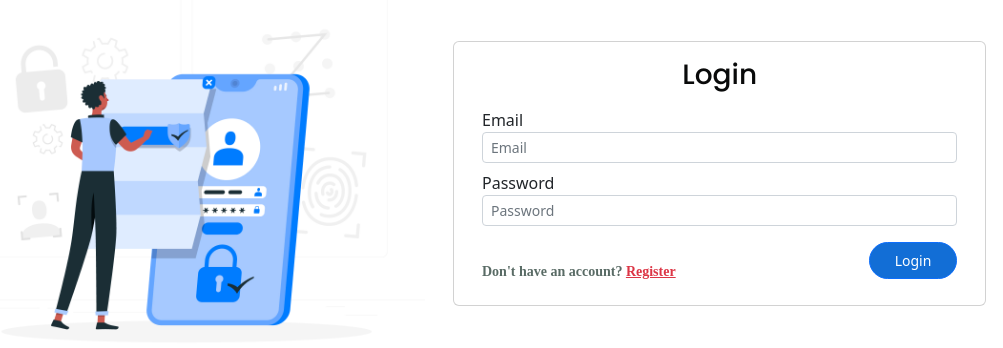
shows an error when the server cannot be reached
In the field with placeholder "Email": (720, 148) [482, 132, 957, 163], type "anna@example.com"
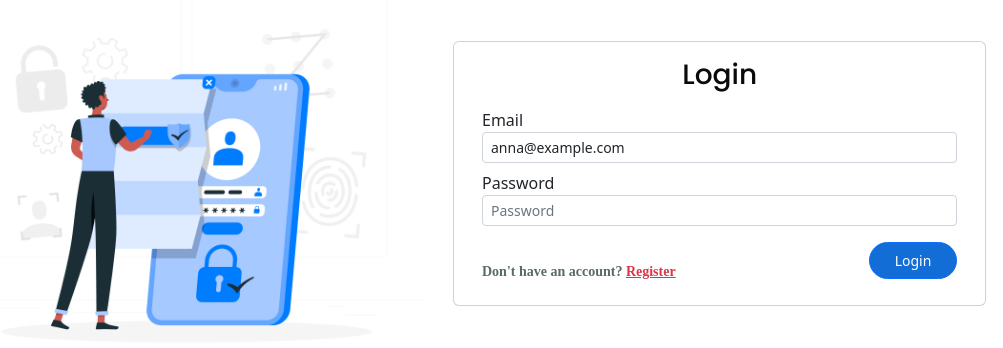
In the password field with placeholder "Password": (720, 210) [482, 195, 957, 226], type "Secret123!"
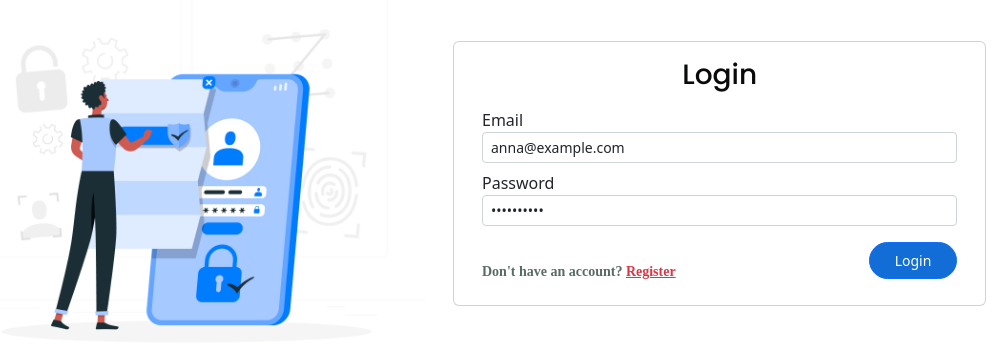
Click the button "Login": (913, 260) [869, 242, 957, 279]
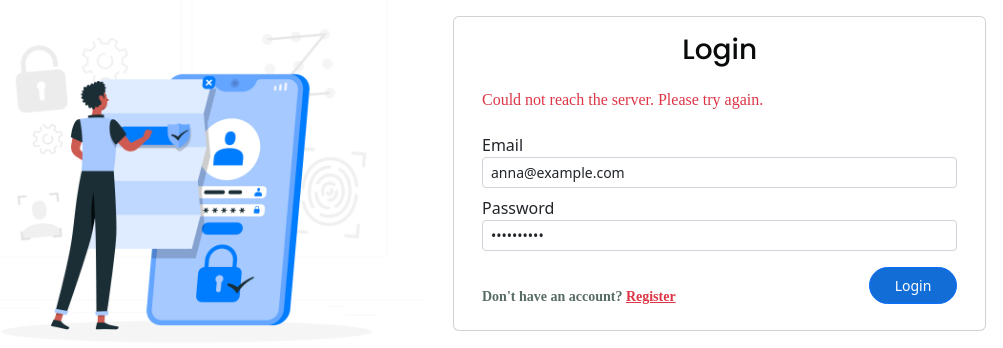
Result: the text "Could not reach the server. Please try again." is shown at [482, 92, 763, 108]
